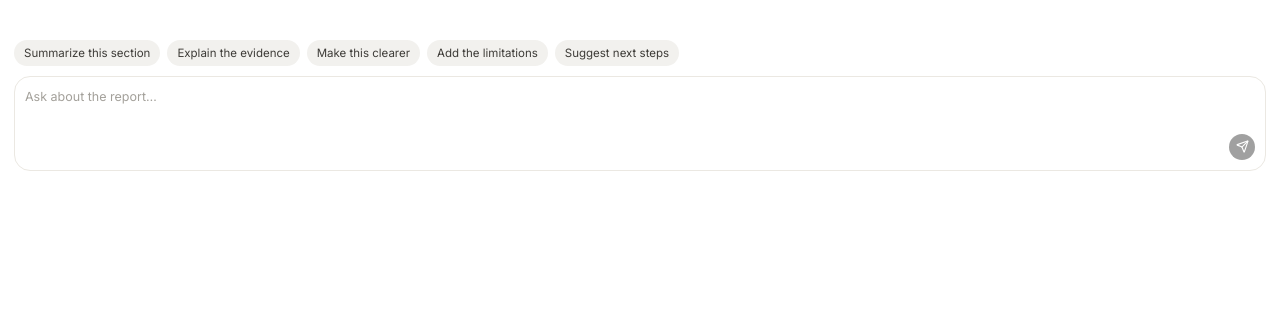
Test: ReportChat › una pregunta sin selección devuelve mensaje y no ofrece Aplicar
Type "¿Qué sostiene la sección 5?" into the text box named "Instruction for the editor". click: [640, 107]
box: [25, 87, 1255, 128]
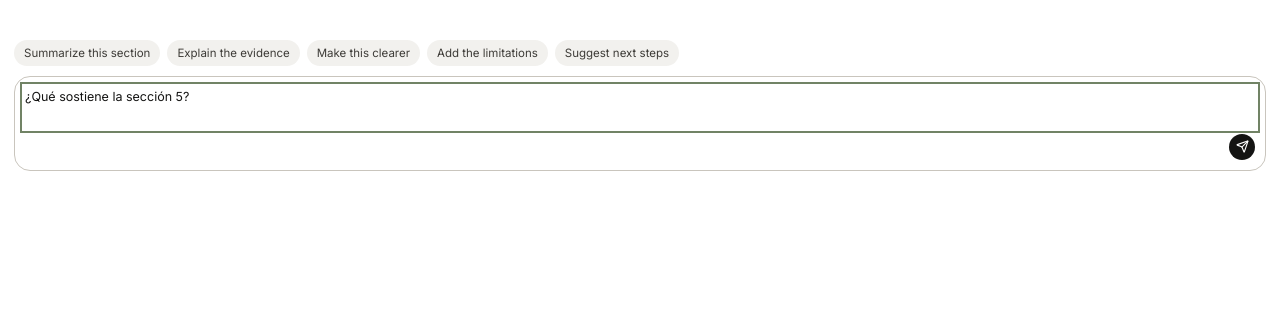
Click the button named "Send". click: [1242, 147]
box: [1229, 134, 1255, 160]
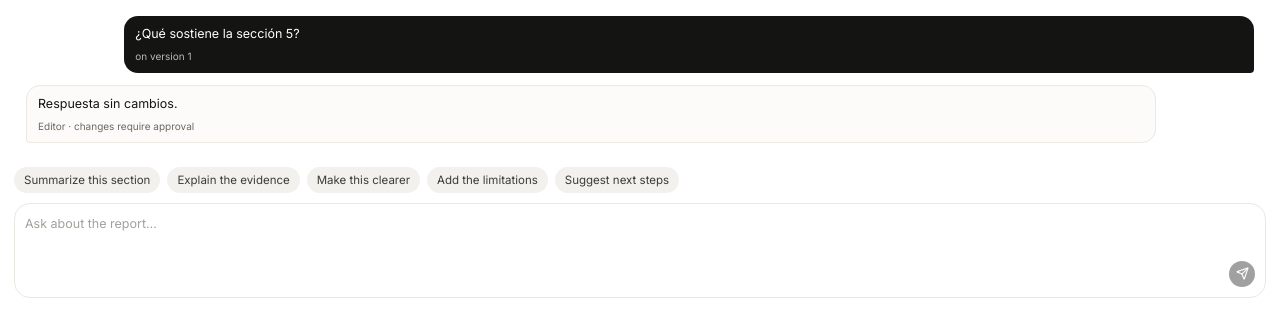
Result: the text "Respuesta sin cambios." is shown at [38, 96, 178, 111]
